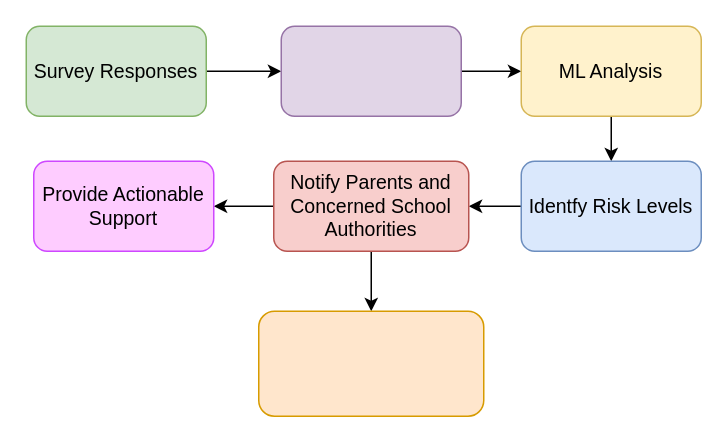
Image size: 728x443. Some labels were removed from this diagram. The centre of each missing label's shape, as x and y in pixels:
"Data Collection" goes at pixel 370 70.
"School can take action on academic framework and campus-life" goes at pixel 370 363.
